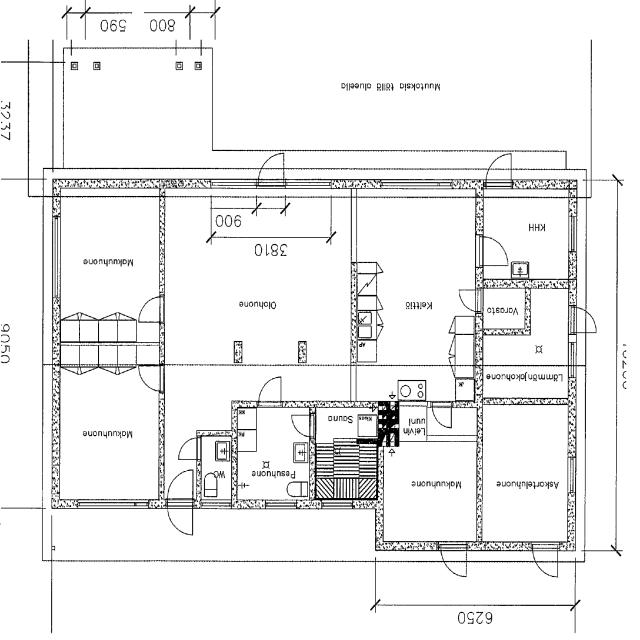door: (254, 155, 286, 193), (483, 151, 514, 188), (530, 544, 561, 580), (440, 544, 470, 579), (480, 233, 510, 266), (167, 500, 194, 536), (256, 374, 284, 407), (167, 468, 194, 500), (138, 363, 164, 392), (137, 294, 163, 322), (430, 401, 454, 431), (289, 411, 314, 438), (456, 286, 480, 313), (574, 309, 598, 333), (177, 437, 199, 461)
window: (44, 213, 65, 307), (285, 180, 336, 197), (564, 453, 579, 499), (567, 212, 580, 256), (567, 339, 580, 379), (320, 498, 355, 512), (264, 499, 298, 512)
zone: (355, 194, 480, 350), (53, 194, 163, 328), (55, 370, 165, 504), (478, 402, 574, 538), (480, 194, 576, 280), (235, 406, 310, 506), (53, 318, 164, 372), (480, 276, 530, 338), (197, 435, 234, 504), (29, 40, 53, 62)
